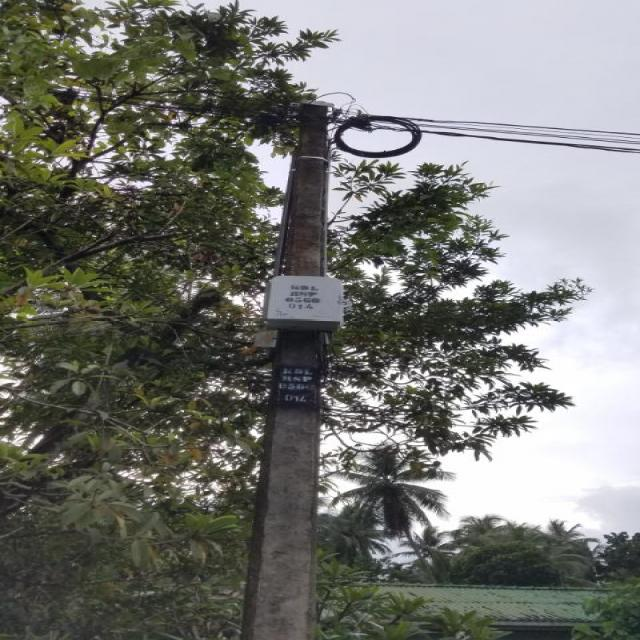light_pole: (240, 91, 338, 640)
